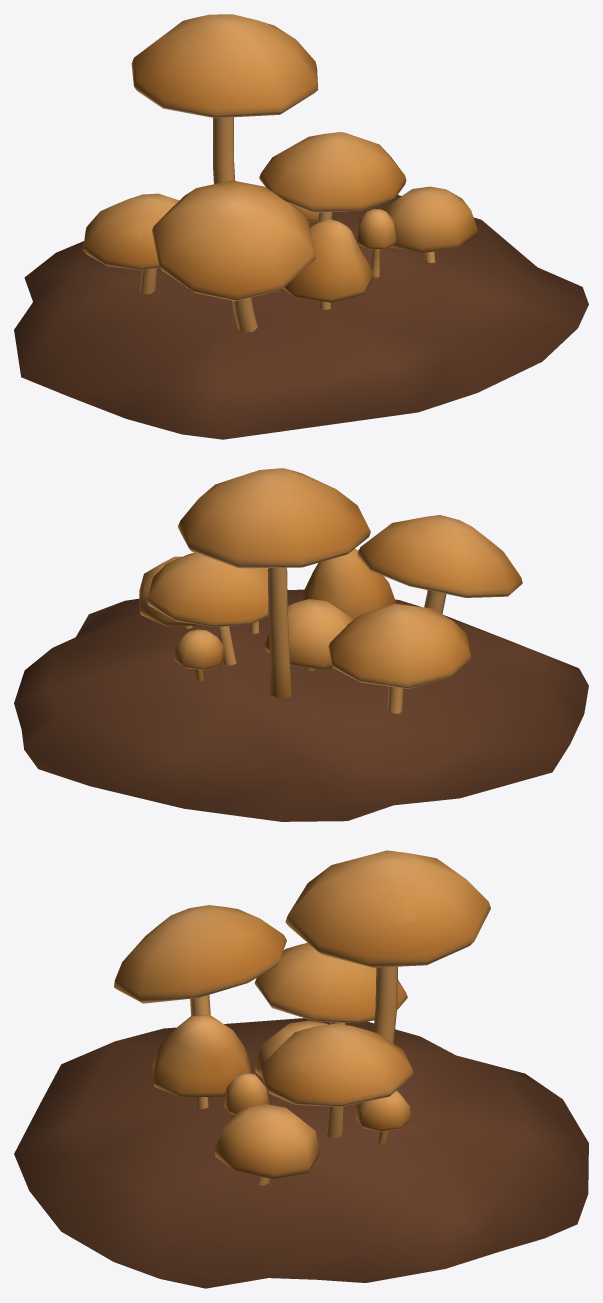
File: SM_PlantSoil_EnokiMushroom_Lv3.fbx
The picture shows the model from 3 angles, top to bottom: view 1: azimuth 30°, elevation 25°; view 2: azimuth 150°, elevation 25°; view 3: azimuth 270°, elevation 25°; orthographic projection. The views are drawn at different scales.
Visible parts, largest first — view 1: SM_PlantSoil_EnokiMushroom_Lv3; view 2: SM_PlantSoil_EnokiMushroom_Lv3; view 3: SM_PlantSoil_EnokiMushroom_Lv3.
Boxes of the visible parts, x1=… form: SM_PlantSoil_EnokiMushroom_Lv3: x1=14, y1=14, x2=588, y2=439; SM_PlantSoil_EnokiMushroom_Lv3: x1=14, y1=468, x2=588, y2=821; SM_PlantSoil_EnokiMushroom_Lv3: x1=14, y1=850, x2=588, y2=1288.
Size of the model in its own units: 118 by 60.14 by 106.
